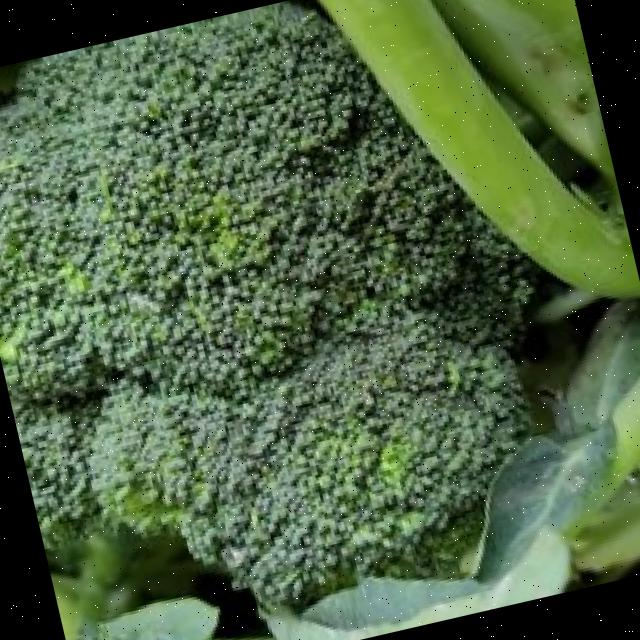Broccoli: (0, 3, 534, 602), (0, 4, 534, 601)
